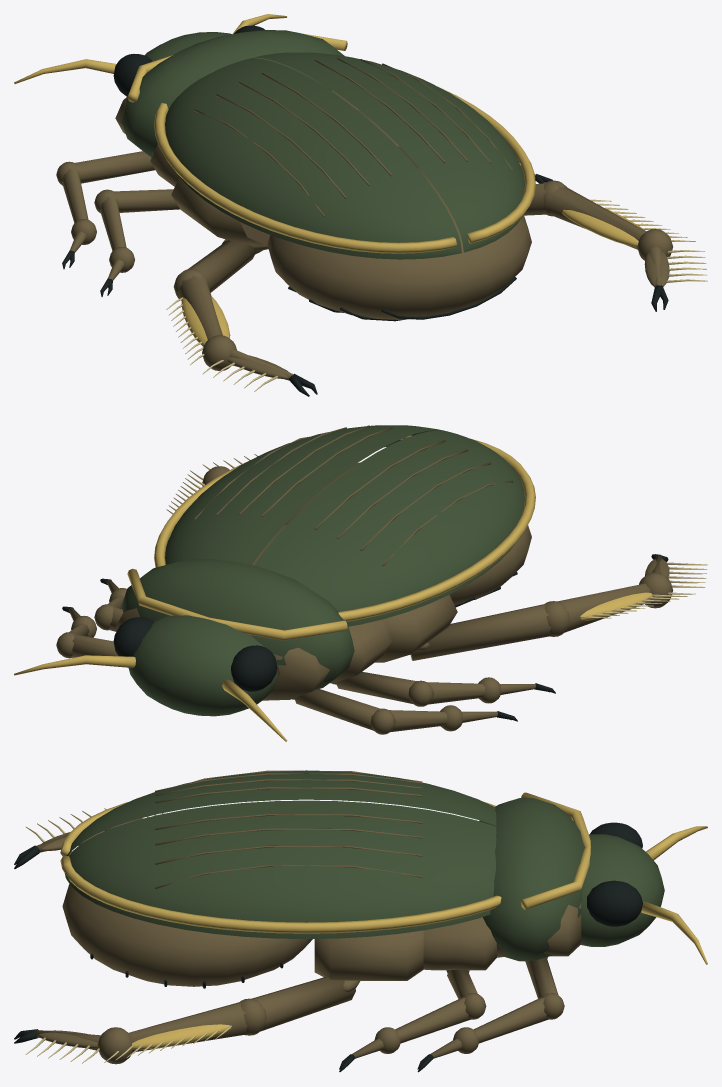
The model's file is DivingBeetle.fbx.
The picture shows the model from 3 angles, top to bottom: view 1: azimuth 30°, elevation 25°; view 2: azimuth 150°, elevation 25°; view 3: azimuth 270°, elevation 25°; orthographic projection. The views are drawn at different scales.
Parts seen in each view (by area): view 1: DivingBeetle_Olive_chitin, DivingBeetle_Ventral_chitin, DivingBeetle_Ochre_margin, DivingBeetle_Eyes_and_claws, DivingBeetle_Swimming_setae; view 2: DivingBeetle_Olive_chitin, DivingBeetle_Ventral_chitin, DivingBeetle_Ochre_margin, DivingBeetle_Eyes_and_claws, DivingBeetle_Swimming_setae; view 3: DivingBeetle_Olive_chitin, DivingBeetle_Ventral_chitin, DivingBeetle_Ochre_margin, DivingBeetle_Eyes_and_claws, DivingBeetle_Swimming_setae.
Part boxes in pixels (x1,y1,x2,y2): DivingBeetle_Olive_chitin: (121,30,524,259); DivingBeetle_Ventral_chitin: (56,58,672,380); DivingBeetle_Ochre_margin: (14,14,644,346); DivingBeetle_Eyes_and_claws: (62,25,668,396); DivingBeetle_Swimming_setae: (166,199,707,391); DivingBeetle_Olive_chitin: (121,425,524,716); DivingBeetle_Ventral_chitin: (56,425,673,734); DivingBeetle_Ochre_margin: (14,435,652,741); DivingBeetle_Eyes_and_claws: (62,554,668,721); DivingBeetle_Swimming_setae: (166,454,707,618); DivingBeetle_Olive_chitin: (64,770,664,961); DivingBeetle_Ventral_chitin: (35,770,581,1064); DivingBeetle_Ochre_margin: (60,792,707,1049); DivingBeetle_Eyes_and_claws: (14,822,642,1072); DivingBeetle_Swimming_setae: (25,808,231,1063).
Size of the model in its own units: 0.8671 by 0.26 by 1.
